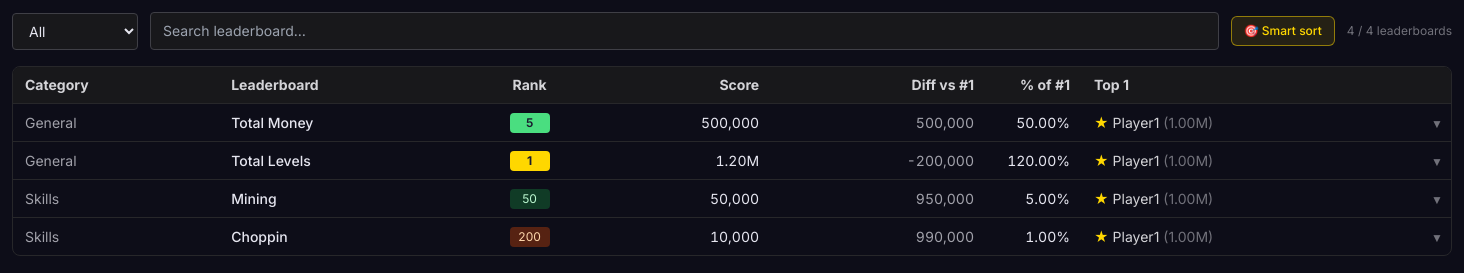
LeaderboardsTable › filters by category select
Select "Skills" in the dropdown at x=75, y=31, box [12,12,138,50]
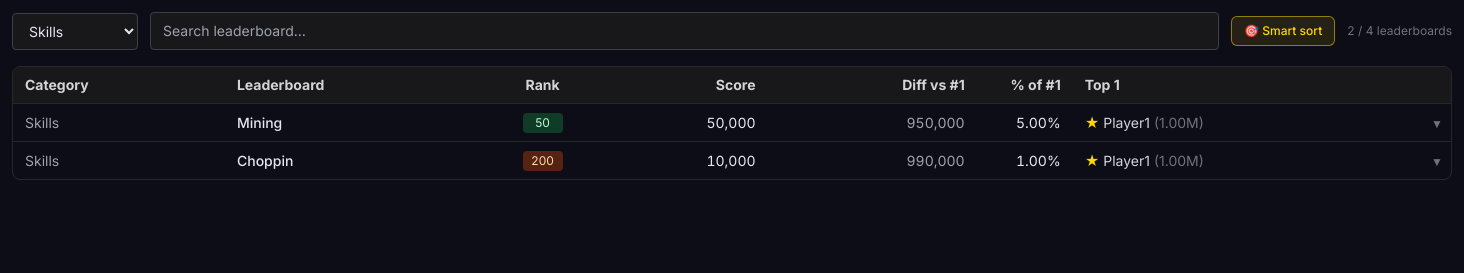
Expected: the text "Mining" is shown, [225,104,495,142]
Expected: the text "Total Money" is gone
